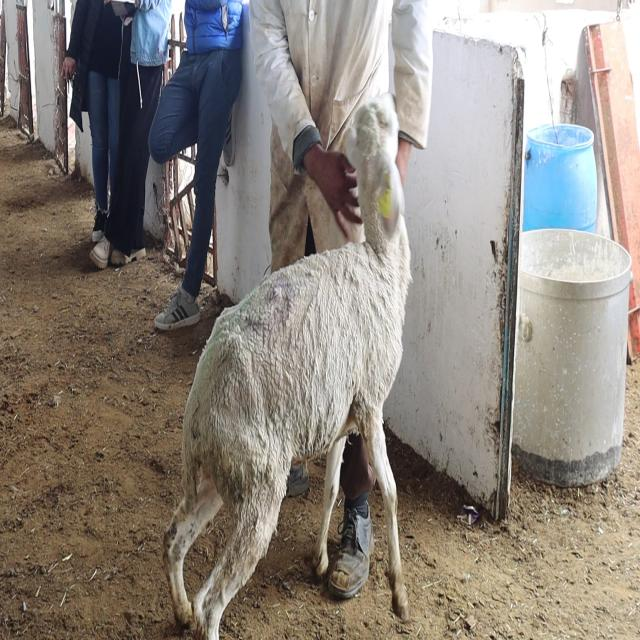Score_1: (163, 94, 411, 639)
